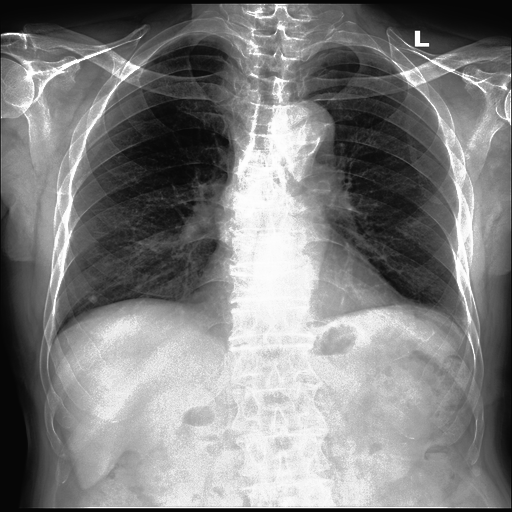Consolidation: (266, 99, 332, 172)
Pulmonary fibrosis: (84, 294, 100, 303)
